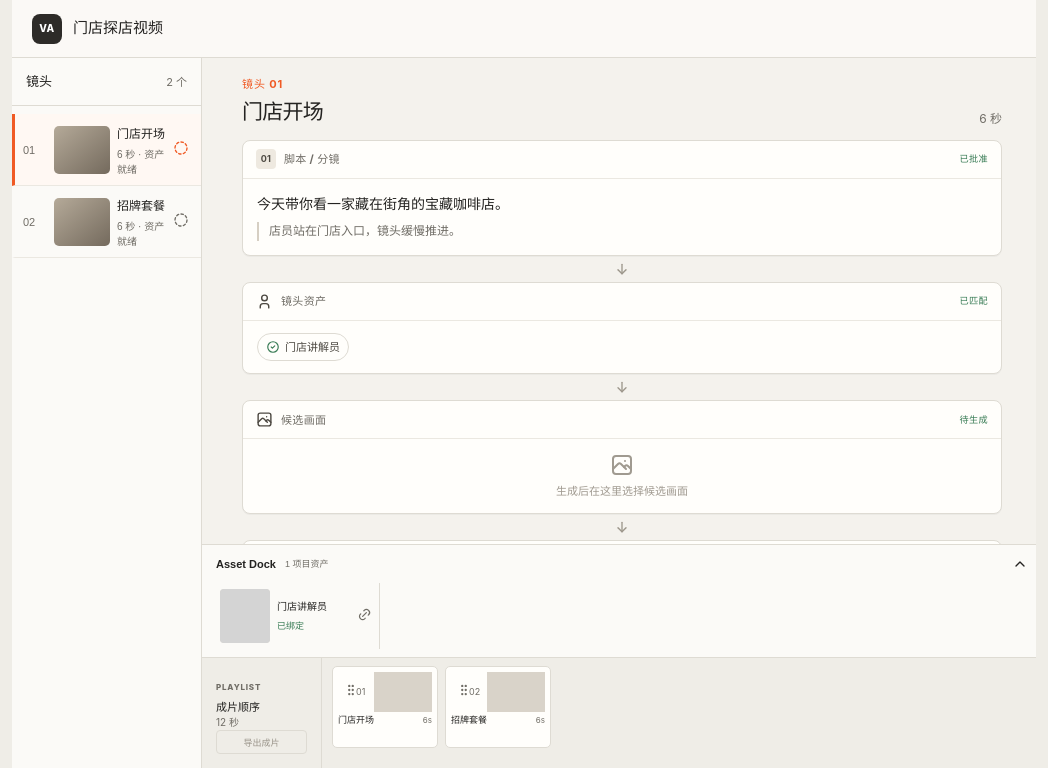
Test: CanvasV1Page interactions and safety › switches the production chain and inspector to the selected shot
The width and height of the screenshot is (1048, 768).
Click the button "02 招牌套餐 6 秒 · 资产就绪".
click(106, 222)  # box 12,186 -> 201,258
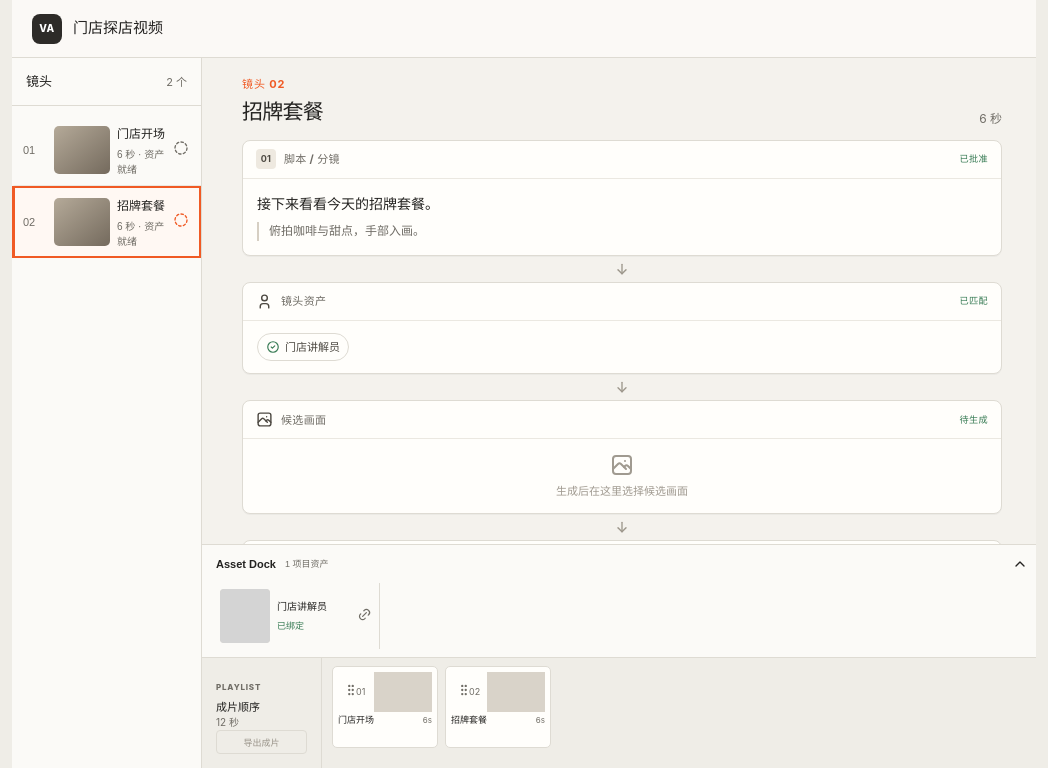
Result: the heading "招牌套餐" is shown at 242,96 -> 323,128
Result: the text "俯拍咖啡与甜点，手部入画。" is shown at 257,222 -> 987,241
